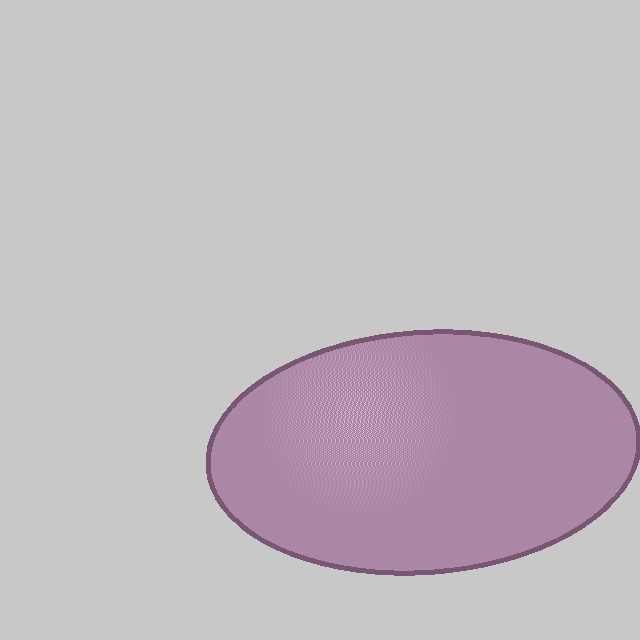lens: (208, 332, 638, 572)
